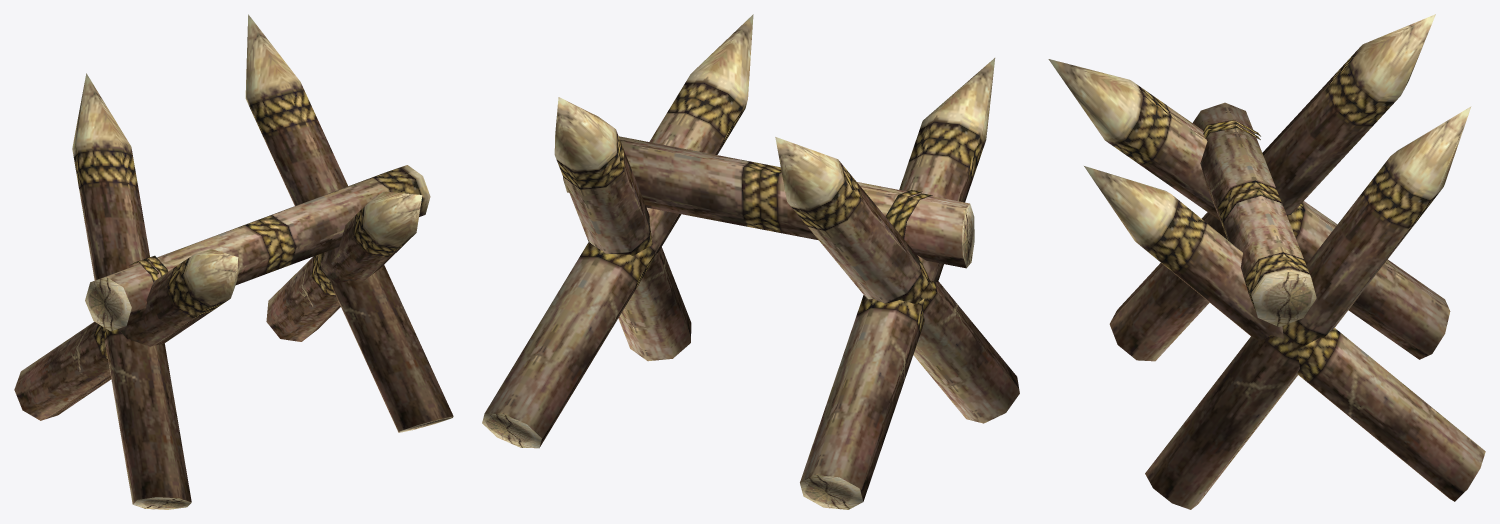
The model's file is nml-bd139.glb.
3 views of the same model, side by side, from view 1: azimuth 30°, elevation 25°; view 2: azimuth 150°, elevation 25°; view 3: azimuth 270°, elevation 25° (orthographic). The views are drawn at different scales.
Parts seen in each view (by area): view 1: geom_node_0; view 2: geom_node_0; view 3: geom_node_0.
Part boxes in pixels (left/top/right/bottom): geom_node_0: left=14, top=14, right=453, bottom=509; geom_node_0: left=482, top=14, right=1019, bottom=509; geom_node_0: left=1048, top=14, right=1485, bottom=509.
Bounding box in the file's own units: 2.85 × 2.66 × 2.81.
Materials: 1 (1 with a texture image).
